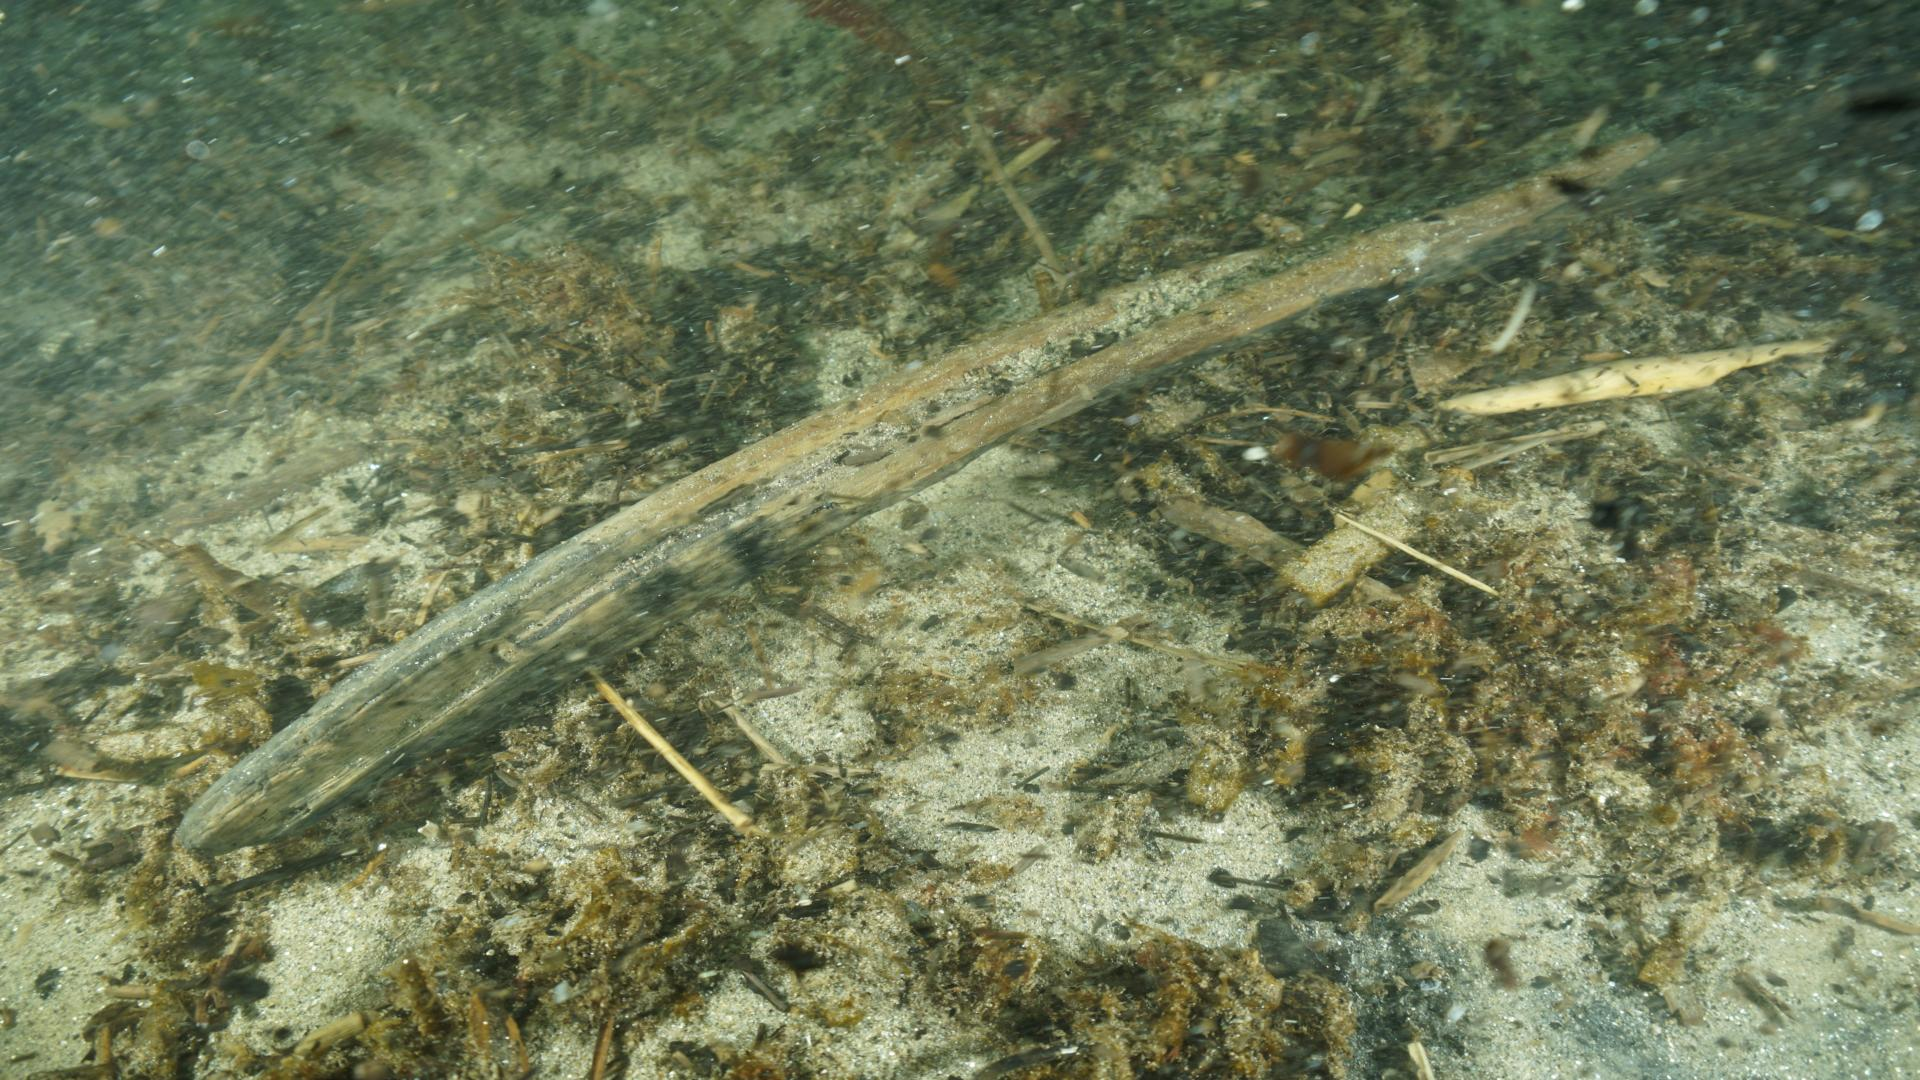wood: (175, 121, 1669, 857)
